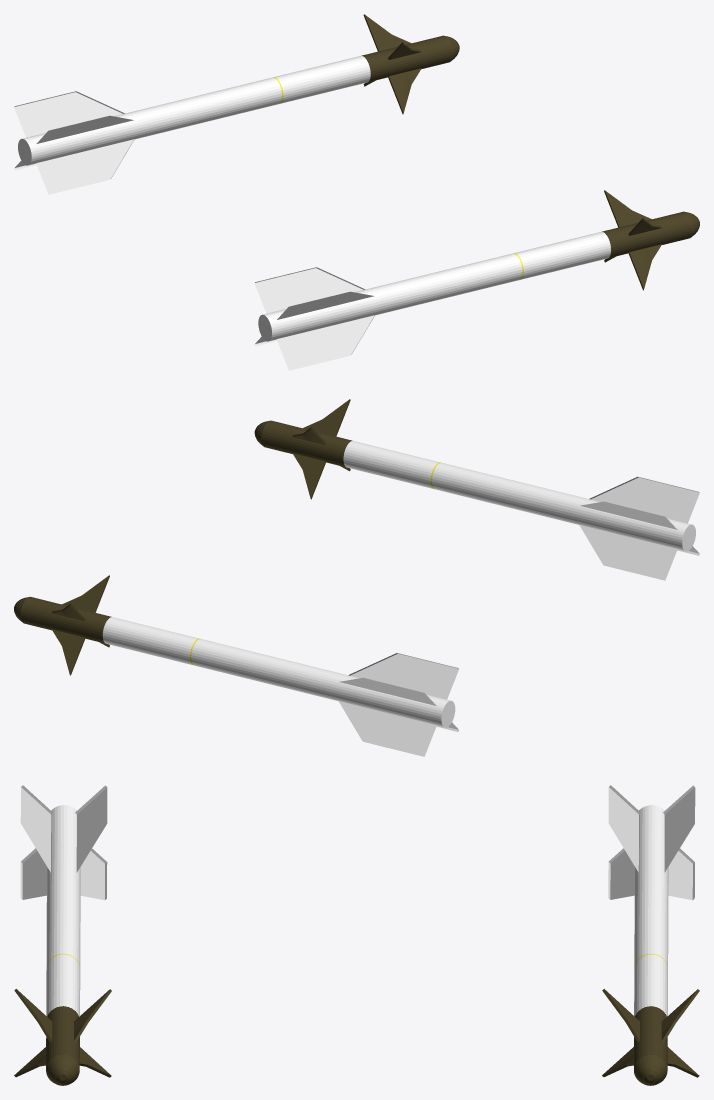
The model's file is f15eaim989.glb.
3 renders of one model, top to bottom at view 1: azimuth 30°, elevation 25°; view 2: azimuth 150°, elevation 25°; view 3: azimuth 270°, elevation 25°, orthographic. The views are drawn at different scales.
Visible parts, largest first — view 1: 円柱.007, 円柱.006; view 2: 円柱.006, 円柱.007; view 3: 円柱.006, 円柱.007.
Part boxes in pixels (box(x1,y1,x2,y2)): 円柱.007: box(14, 14, 459, 194); 円柱.006: box(254, 190, 699, 370); 円柱.006: box(254, 399, 699, 580); 円柱.007: box(14, 575, 458, 756); 円柱.006: box(14, 785, 111, 1085); 円柱.007: box(602, 785, 699, 1085).
Size of the model in its own units: 3.38 by 0.543 by 3.79.
2 materials, 2 textured.
